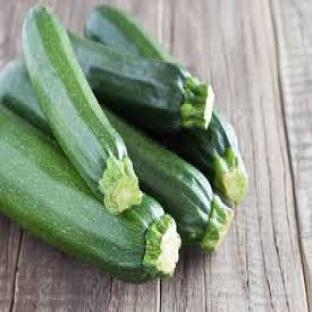Zucchini: (0, 106, 180, 283), (23, 7, 141, 213), (104, 108, 233, 250), (70, 35, 214, 132), (173, 108, 248, 202)
